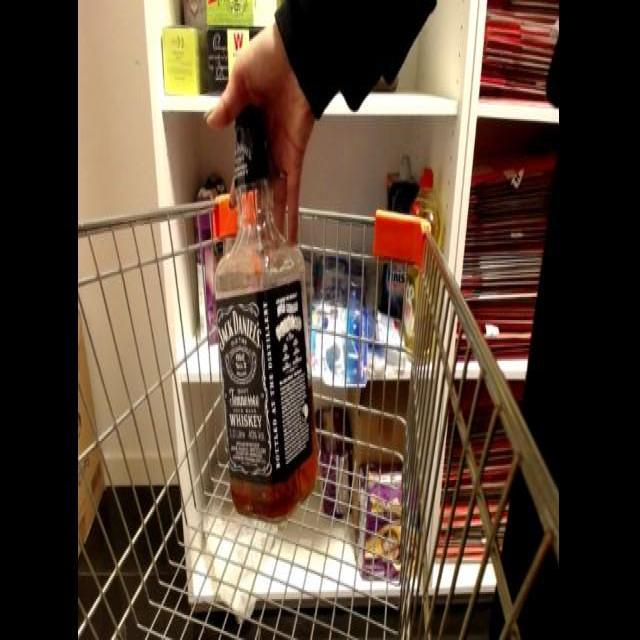Jack Daniels: (203, 78, 341, 534)
